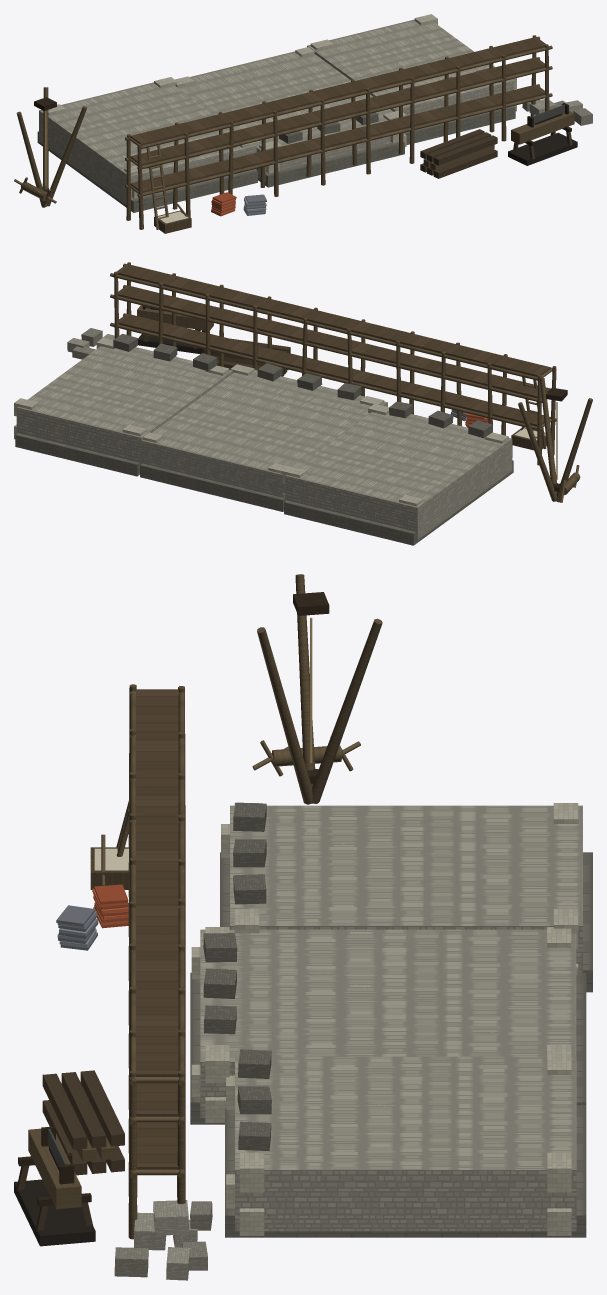
Rendered from rat-6-construction.glb.
3 views of the same model, one above another, from view 1: azimuth 30°, elevation 25°; view 2: azimuth 150°, elevation 25°; view 3: azimuth 270°, elevation 25° (orthographic). The views are drawn at different scales.
Size of the model in its own units: 41.95 by 8.27 by 20.34.
27 materials, 18 textured.
